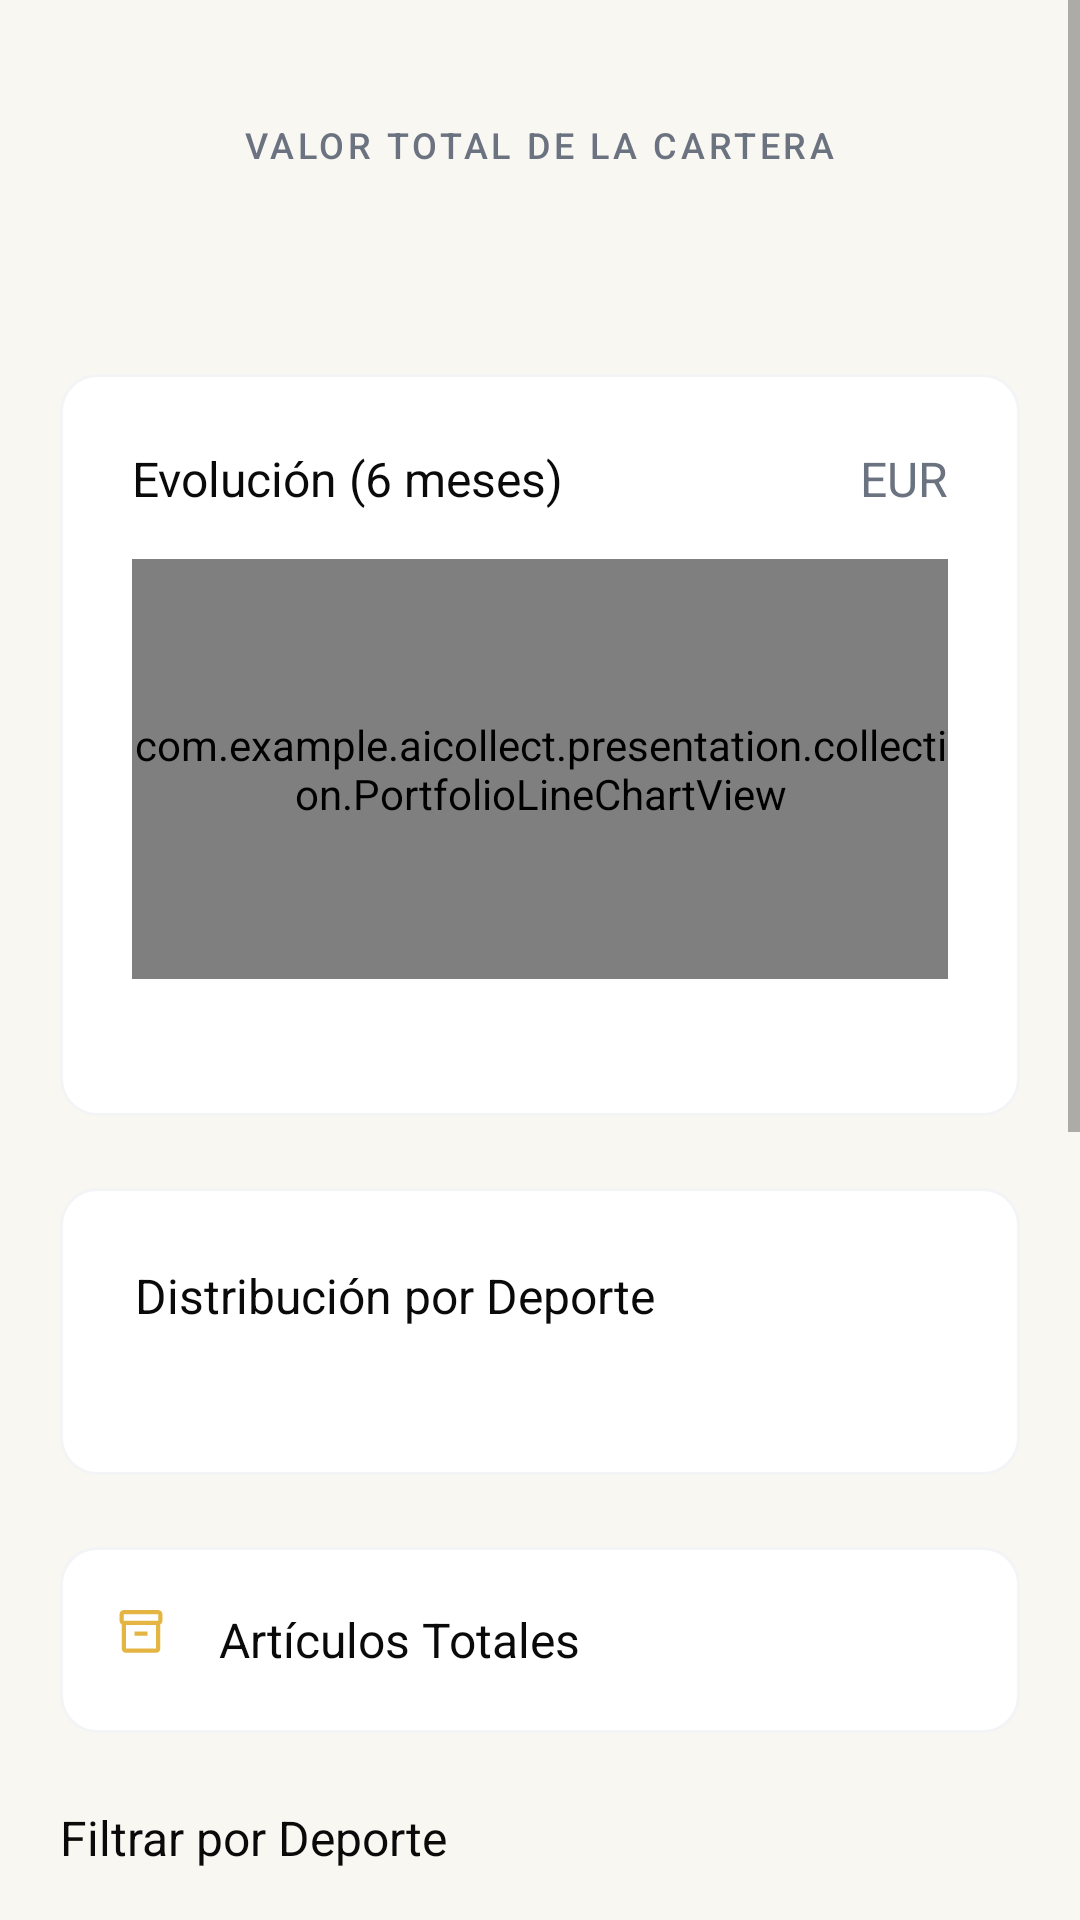

Icon bounding boxes for this 1080px×1920px phone screenshot, format (x1, y1, x2, y2):
vault box: (119, 1610, 163, 1653)
